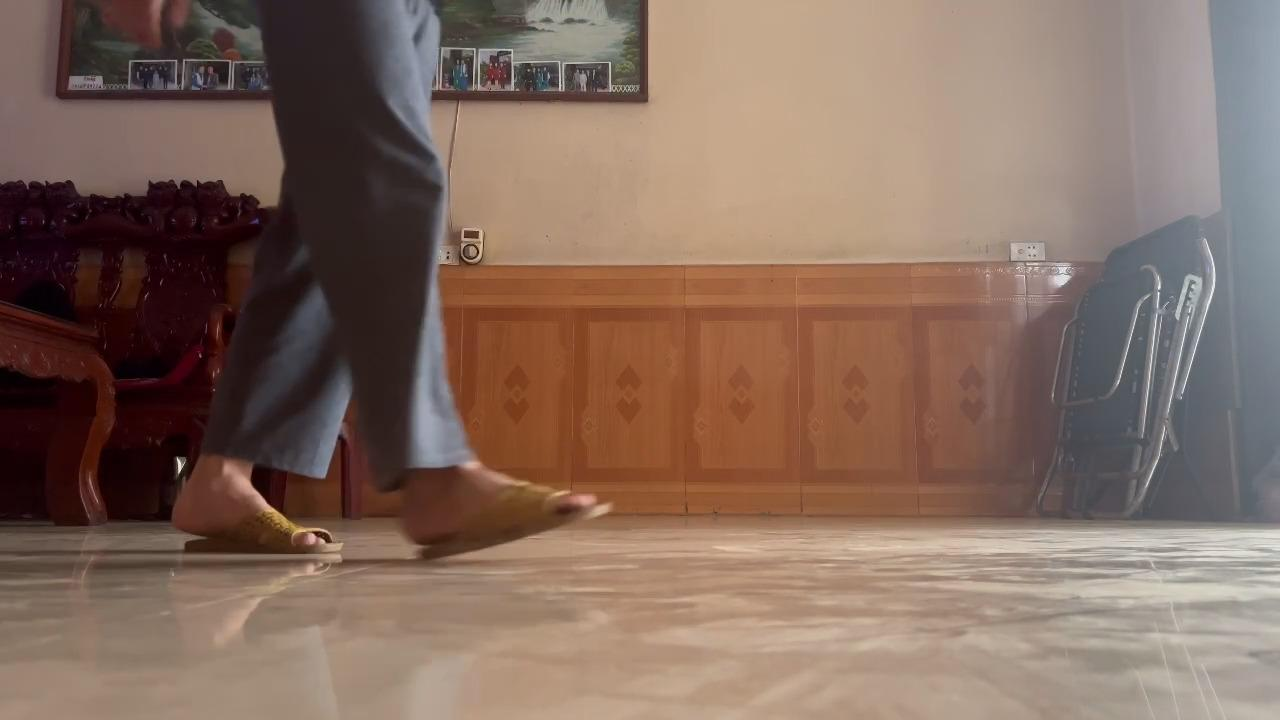no-boot: (389, 479, 620, 573), (163, 463, 349, 565)
